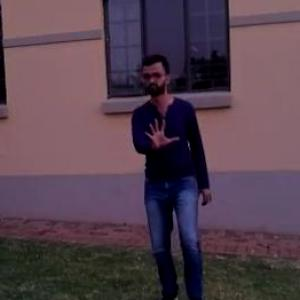follow_hand: (140, 112, 182, 156)
